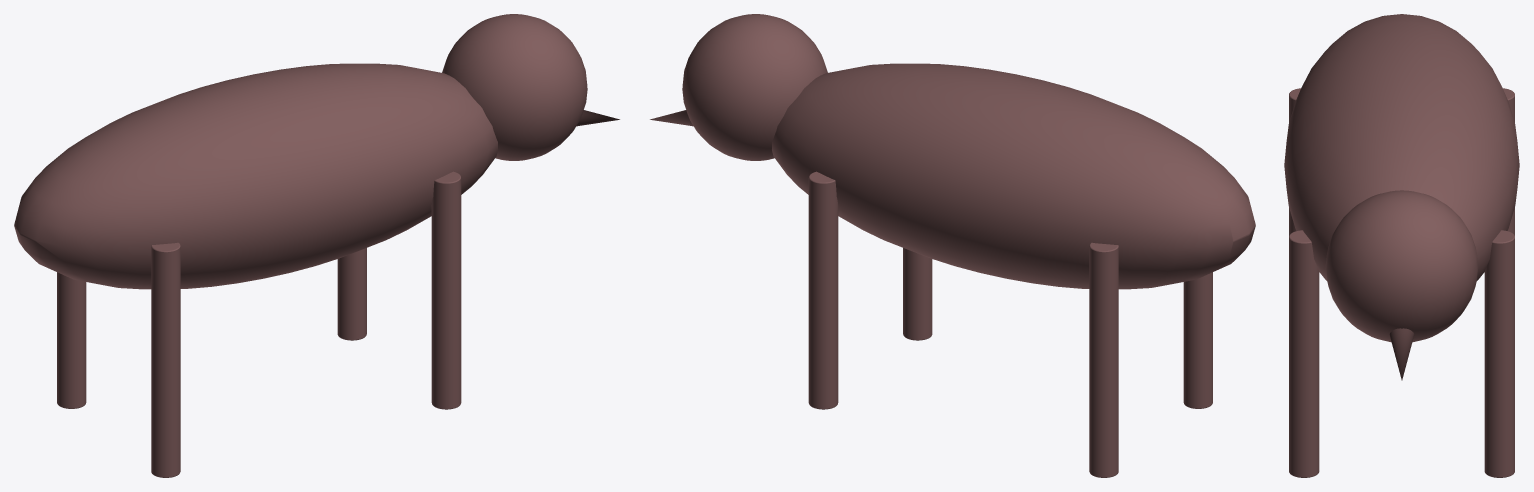
Rendered from SM_ANM_HookjawStalker.fbx.
3 views of the same model, side by side, from view 1: azimuth 30°, elevation 25°; view 2: azimuth 150°, elevation 25°; view 3: azimuth 270°, elevation 25° (orthographic). The views are drawn at different scales.
Visible parts, largest first — view 1: SM_ANM_HookjawStalker; view 2: SM_ANM_HookjawStalker; view 3: SM_ANM_HookjawStalker.
Boxes of the visible parts, x1,y1,x2,y2 form: SM_ANM_HookjawStalker: (14,14,619,477); SM_ANM_HookjawStalker: (650,14,1255,477); SM_ANM_HookjawStalker: (1284,14,1519,477).
Size of what is drawn, in the model's own units: 2.35 by 1.2 by 0.77.
